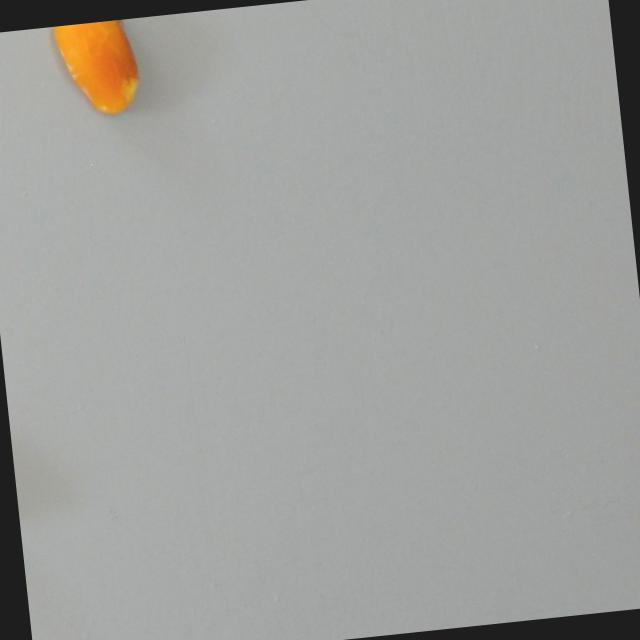dañado: (48, 17, 148, 126)
